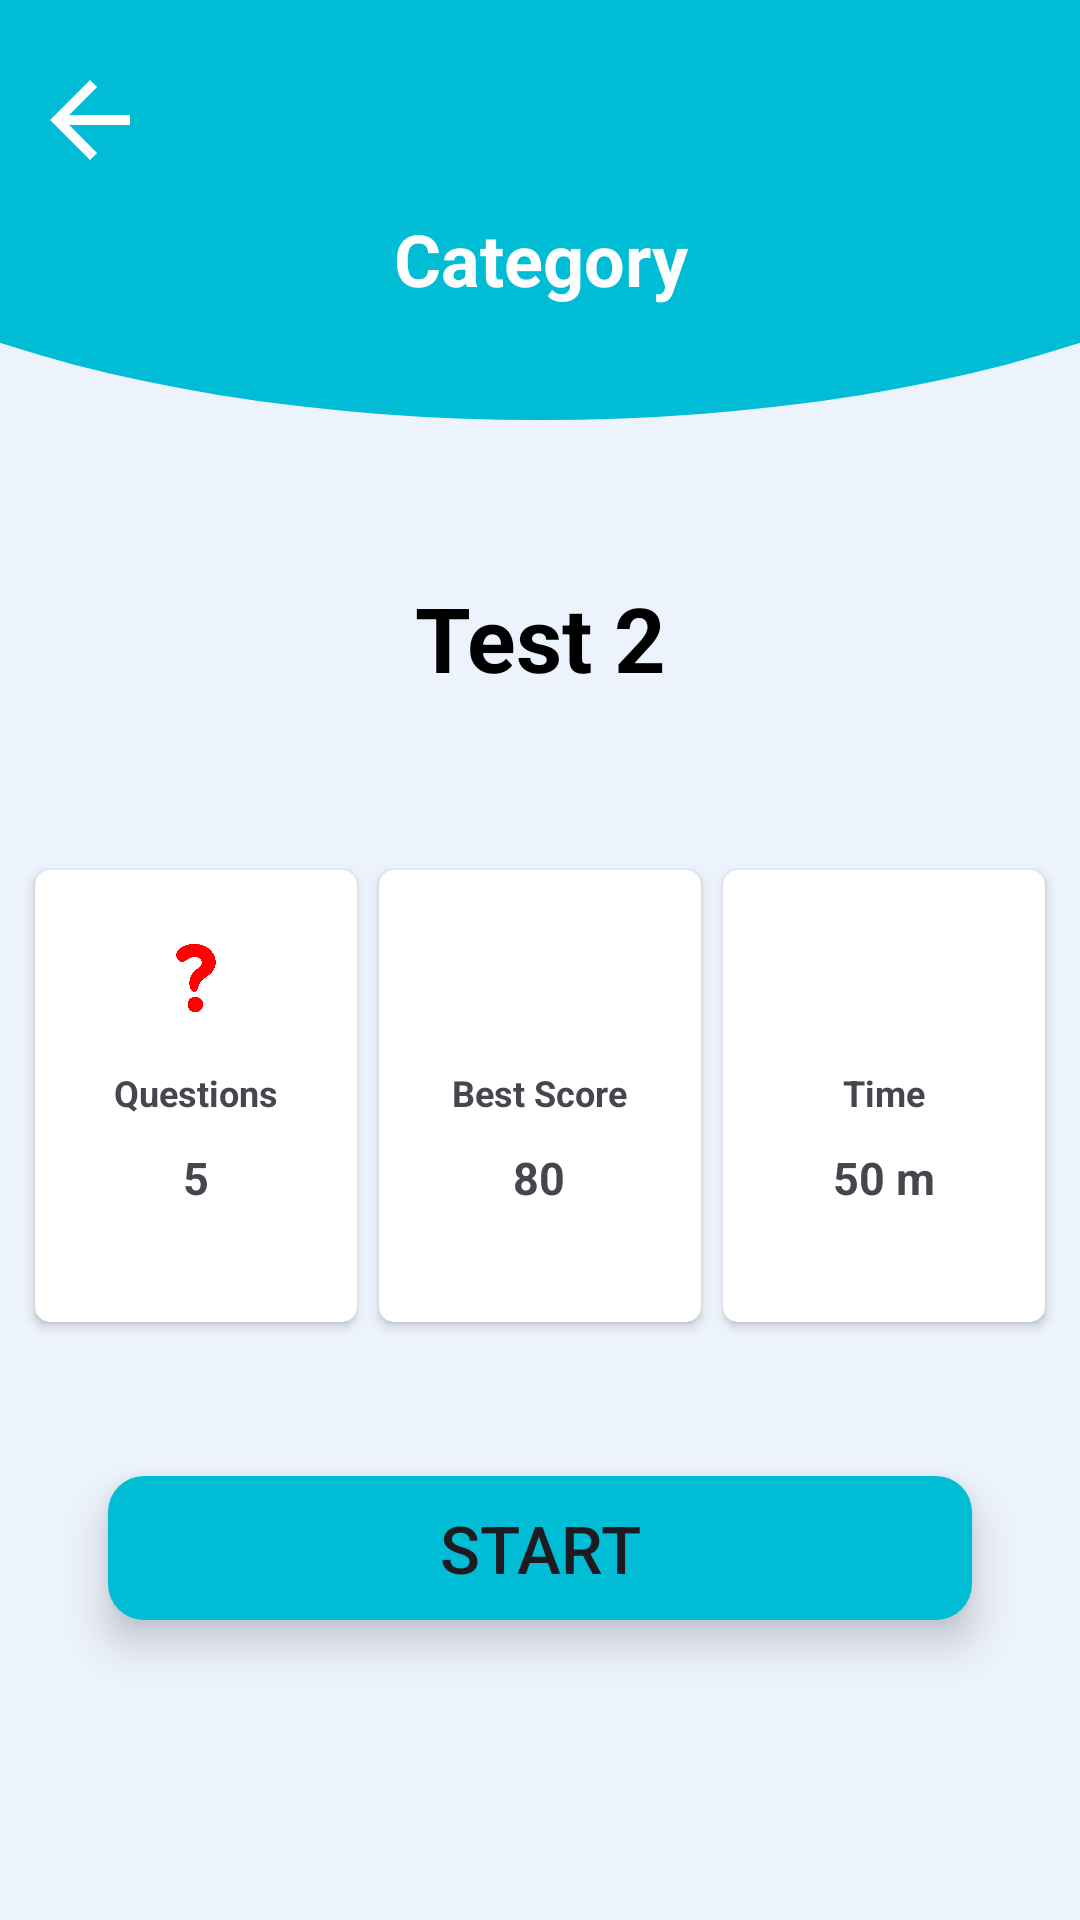

Icons on this 1080 x 1920 Android screen, each with its box as (x1, y1, x2, y2):
back: (50, 80, 130, 160)
